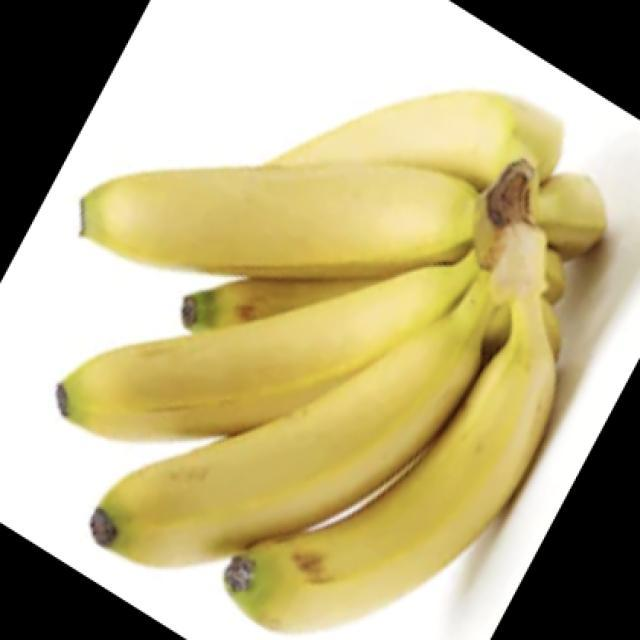Banana: (64, 94, 610, 633)
